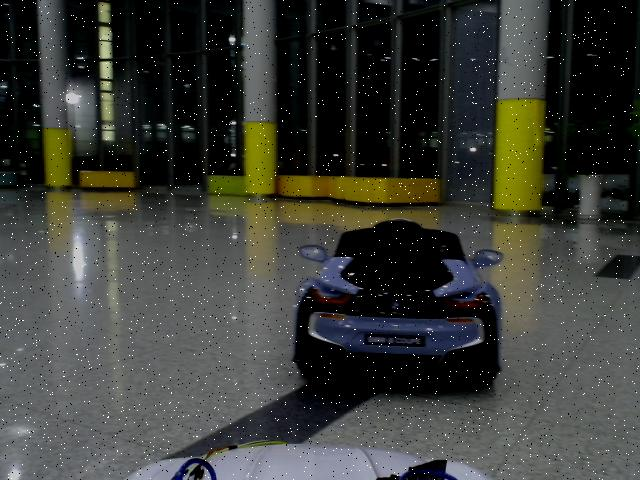car: (293, 219, 505, 387)
